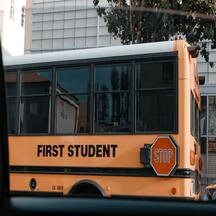Circle: (149, 134, 178, 175)
